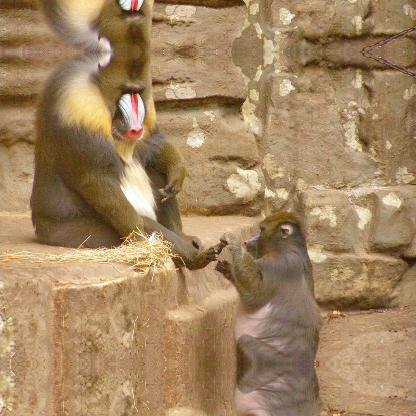Monkey: (21, 52, 193, 268), (212, 211, 328, 361), (21, 0, 194, 53), (212, 367, 329, 415)
